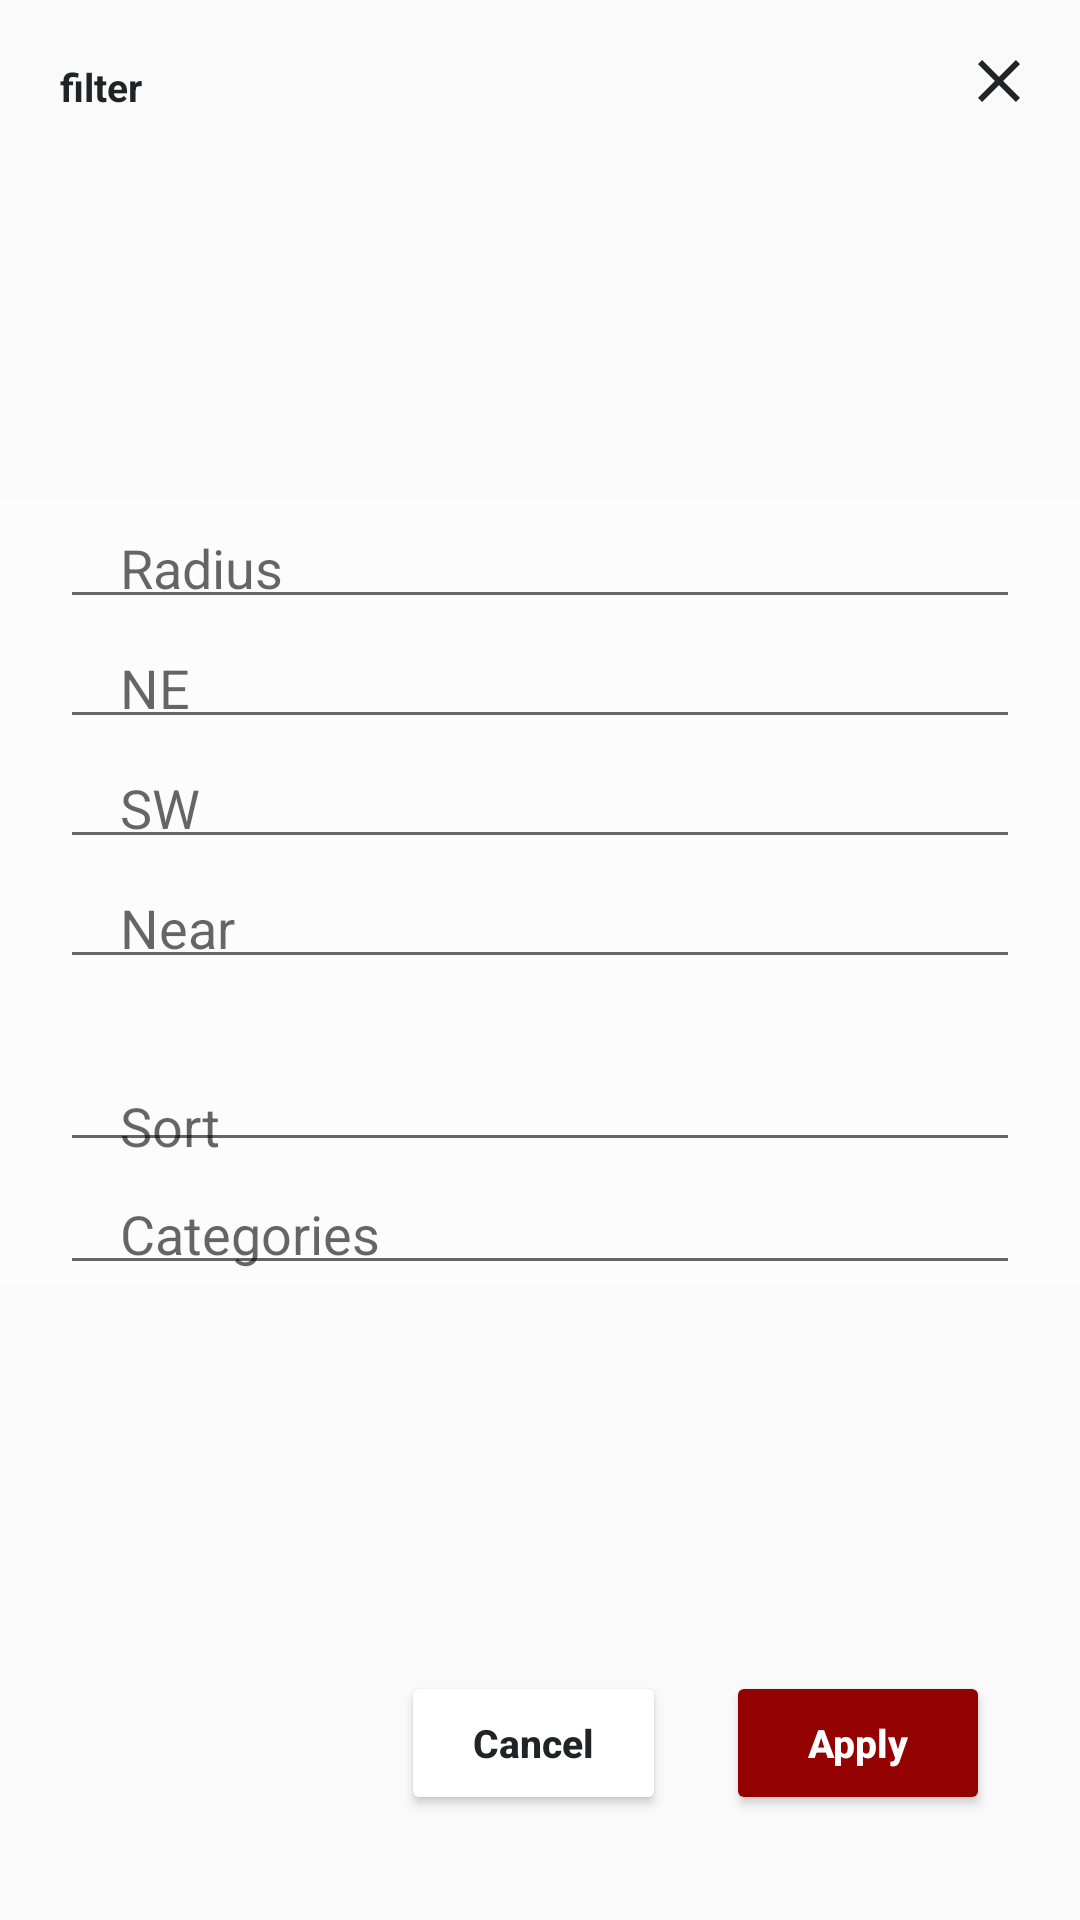

Screen size 1080 × 1920. Icon name, then its center in pixels as (x,y):
Cancel: (999,81)
